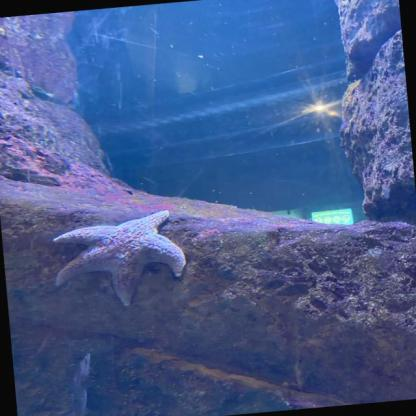starfish: (51, 210, 189, 312)
